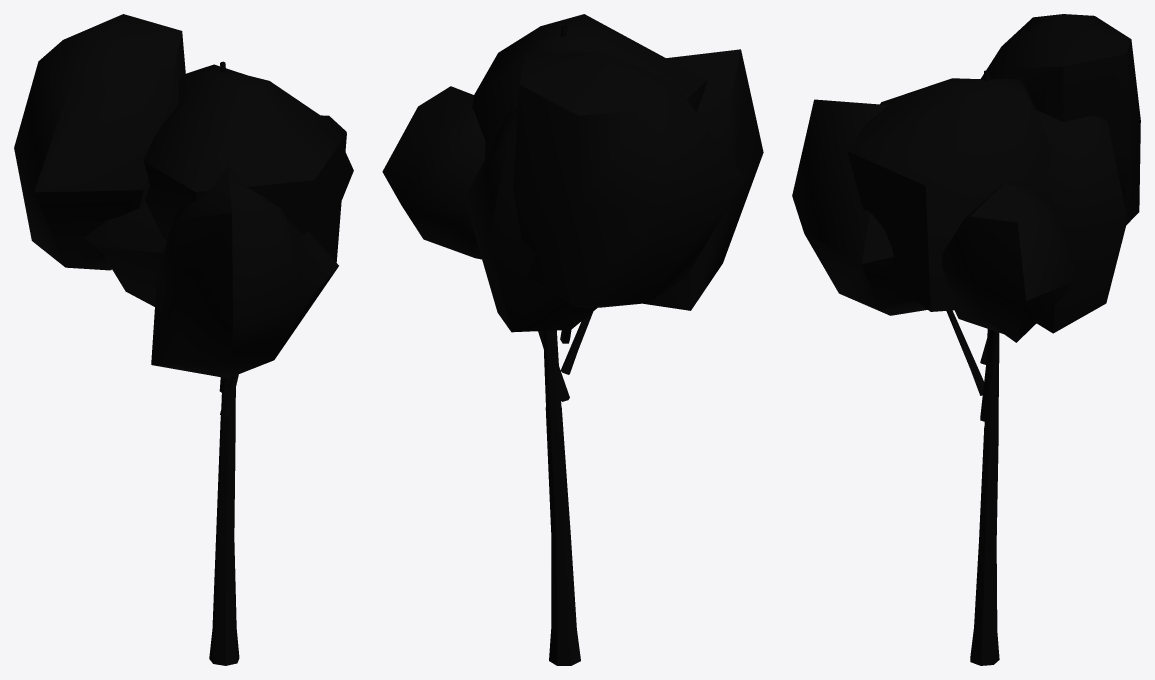
File: SM_birch_autumn.fbx
3 renders of one model, left to right at view 1: azimuth 30°, elevation 25°; view 2: azimuth 150°, elevation 25°; view 3: azimuth 270°, elevation 25°, orthographic. The views are drawn at different scales.
Parts seen in each view (by area): view 1: birch_autumn_crown, birch_autumn; view 2: birch_autumn_crown, birch_autumn; view 3: birch_autumn_crown, birch_autumn.
Part boxes in pixels (box(x1,y1,x2,y2)): birch_autumn_crown: box(14, 14, 353, 419); birch_autumn: box(209, 416, 239, 665); birch_autumn_crown: box(382, 14, 763, 409); birch_autumn: box(545, 406, 580, 665); birch_autumn_crown: box(792, 14, 1140, 431); birch_autumn: box(970, 426, 999, 665).
Size of the model in its own units: 4.11 by 7.37 by 3.82.
